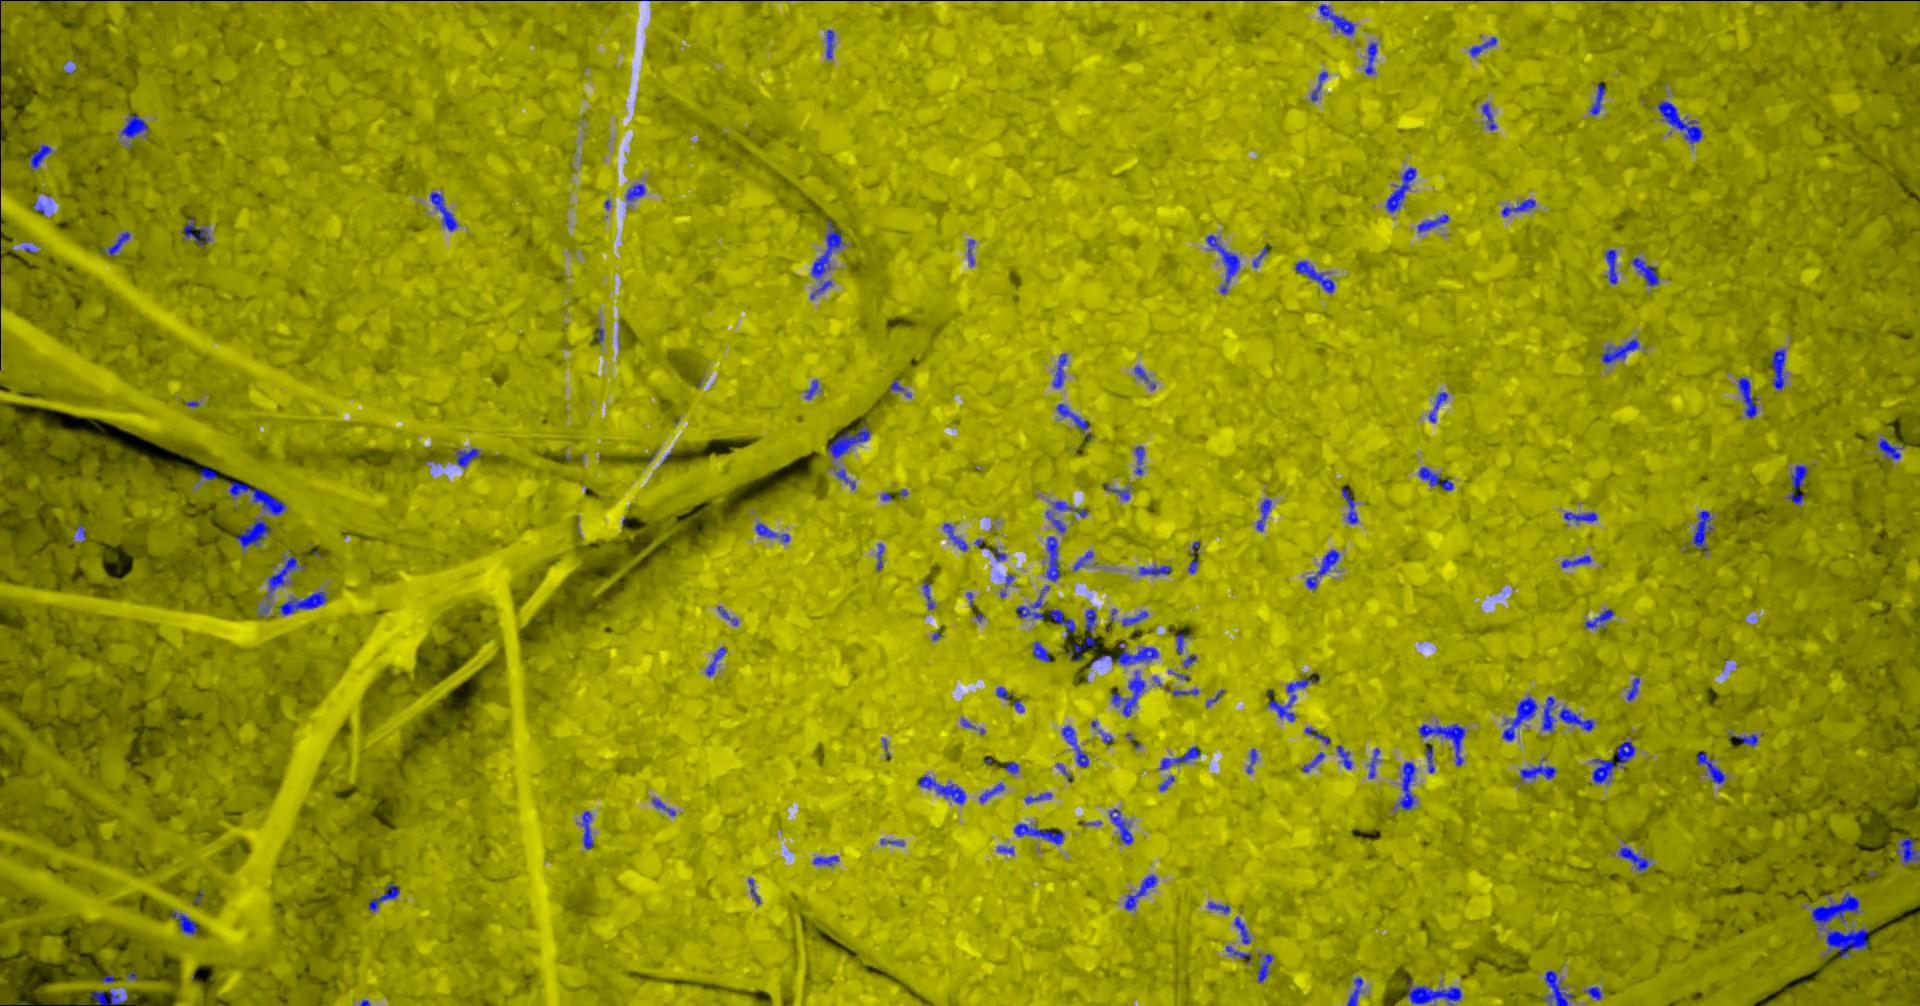ant: (1270, 673, 1321, 721), (1420, 723, 1465, 766), (811, 218, 844, 278), (1208, 234, 1241, 293), (230, 480, 287, 514), (1658, 100, 1703, 144), (1813, 890, 1862, 929), (1594, 741, 1637, 782), (1091, 641, 1161, 667), (829, 420, 872, 459), (1503, 696, 1538, 741), (1112, 671, 1145, 716), (1410, 977, 1463, 1005), (1387, 166, 1418, 212), (919, 775, 968, 804), (1307, 549, 1341, 589), (267, 555, 298, 597), (1827, 927, 1870, 956), (1297, 260, 1336, 292), (1321, 3, 1356, 36), (430, 191, 458, 231), (281, 591, 328, 615), (236, 518, 273, 549), (1063, 725, 1090, 767), (1018, 586, 1051, 619), (1126, 875, 1158, 909), (1015, 823, 1065, 843), (1603, 338, 1641, 365), (1058, 403, 1090, 434), (1545, 970, 1575, 1005), (1161, 746, 1201, 768), (1698, 751, 1727, 782), (1399, 761, 1418, 809), (370, 883, 401, 911), (1738, 377, 1760, 418), (1420, 466, 1455, 490), (1559, 708, 1596, 730), (1789, 464, 1810, 504), (1694, 511, 1714, 551), (1111, 808, 1134, 843), (1633, 257, 1660, 286), (1050, 608, 1077, 638), (185, 217, 211, 246), (102, 231, 131, 255), (757, 522, 791, 542), (122, 114, 151, 137), (1620, 847, 1650, 870), (945, 523, 969, 550), (1070, 636, 1097, 661), (173, 911, 201, 934), (1418, 213, 1451, 232), (1343, 486, 1360, 525), (1048, 536, 1062, 580), (1771, 348, 1787, 389), (1521, 765, 1558, 781), (1503, 198, 1537, 216), (1430, 391, 1449, 422), (91, 989, 130, 1005), (707, 647, 728, 674), (1055, 500, 1090, 517), (1586, 608, 1615, 627), (30, 144, 53, 168), (1898, 837, 1920, 862), (1591, 83, 1608, 116), (1312, 71, 1330, 102), (1470, 37, 1498, 56), (582, 810, 596, 848), (1879, 437, 1903, 459), (980, 782, 1006, 801), (1054, 353, 1068, 387), (1543, 696, 1557, 730), (1105, 483, 1131, 500), (1305, 727, 1332, 744), (1227, 945, 1253, 963), (1258, 498, 1272, 531), (1258, 953, 1275, 981), (457, 448, 481, 467), (1606, 249, 1619, 285), (1349, 976, 1364, 1005), (837, 467, 857, 489), (1304, 751, 1326, 771), (890, 379, 913, 398), (653, 798, 677, 815), (1236, 917, 1252, 942), (811, 279, 833, 298), (1048, 511, 1067, 532), (719, 606, 740, 625), (1483, 103, 1498, 130), (1123, 610, 1149, 625), (1564, 511, 1599, 522), (1076, 550, 1095, 570), (1190, 540, 1201, 573), (1175, 631, 1191, 654), (1563, 554, 1592, 567), (1366, 42, 1378, 74), (1370, 747, 1382, 779), (1731, 733, 1759, 746), (1139, 565, 1173, 575), (1034, 641, 1051, 661), (627, 183, 648, 199), (1253, 246, 1270, 267), (924, 579, 936, 608), (1338, 746, 1352, 768), (1086, 608, 1098, 631), (1628, 677, 1641, 700), (806, 379, 820, 399), (1025, 793, 1053, 803), (1209, 901, 1230, 913), (814, 855, 841, 865), (827, 29, 836, 58), (1137, 446, 1145, 475), (1248, 748, 1258, 774), (1161, 775, 1176, 791), (1427, 746, 1436, 774), (1137, 365, 1150, 381), (998, 686, 1015, 700), (201, 466, 218, 479), (1585, 986, 1603, 998), (877, 542, 885, 570), (969, 239, 977, 265), (1006, 761, 1020, 774), (1175, 688, 1200, 695)
